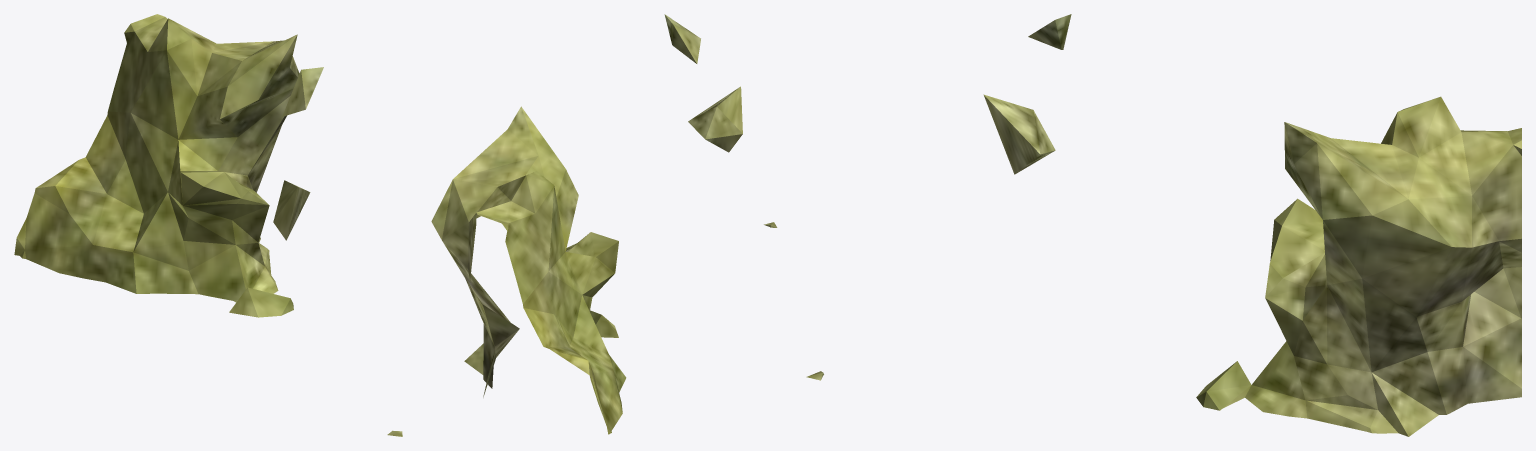
3 renders of one model, left to right at view 1: azimuth 30°, elevation 25°; view 2: azimuth 150°, elevation 25°; view 3: azimuth 270°, elevation 25°, orthographic. The views are drawn at different scales.
Size of the model in its own units: 1.36 by 1.72 by 3.03.
Materials: 1 (1 with a texture image).
